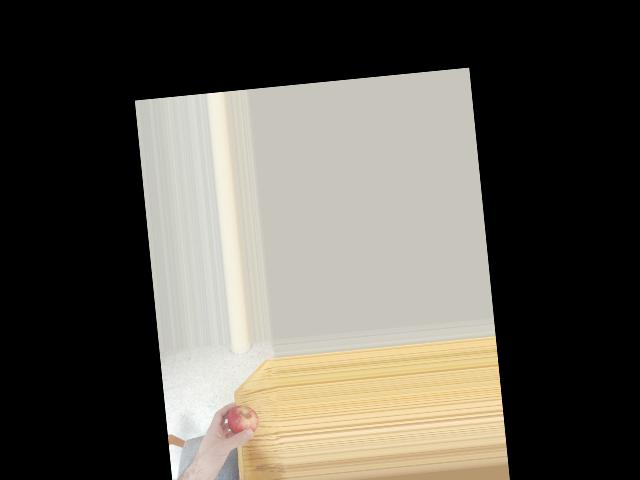apple: (225, 402, 258, 438)
